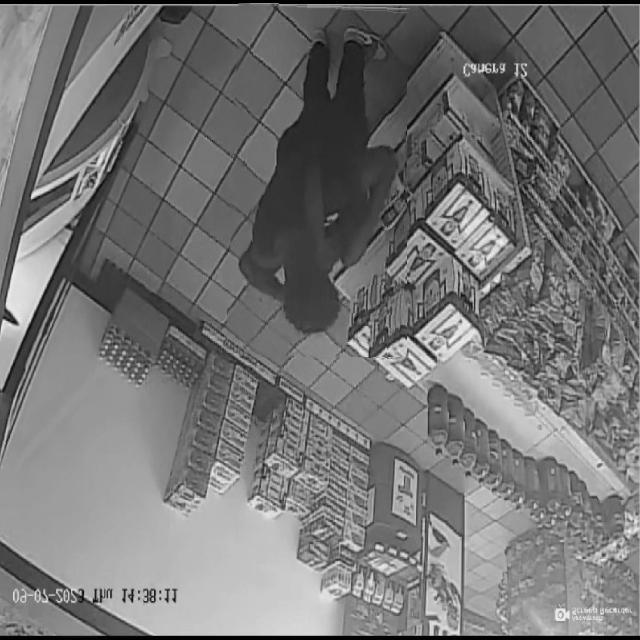Normal: (229, 4, 407, 357)
